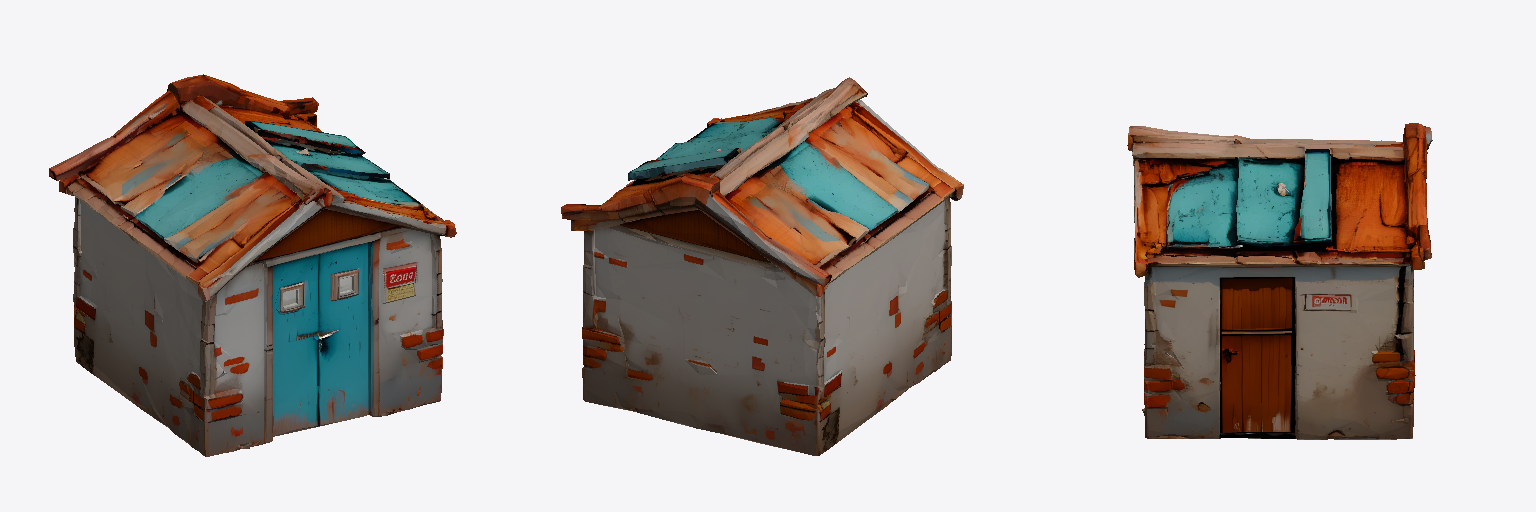
3 renders of one model, left to right at view 1: azimuth 30°, elevation 25°; view 2: azimuth 150°, elevation 25°; view 3: azimuth 270°, elevation 25°, orthographic.
Parts seen in each view (by area): view 1: 1_1234_30_5.0_384_8000; view 2: 1_1234_30_5.0_384_8000; view 3: 1_1234_30_5.0_384_8000.
Part boxes in pixels (left/top/right/bottom): 1_1234_30_5.0_384_8000: left=49, top=74, right=456, bottom=456; 1_1234_30_5.0_384_8000: left=561, top=77, right=963, bottom=455; 1_1234_30_5.0_384_8000: left=1127, top=123, right=1432, bottom=439.
Bounding box in the file's own units: 1.98 × 1.79 × 1.96.
Materials: 1 (1 with a texture image).